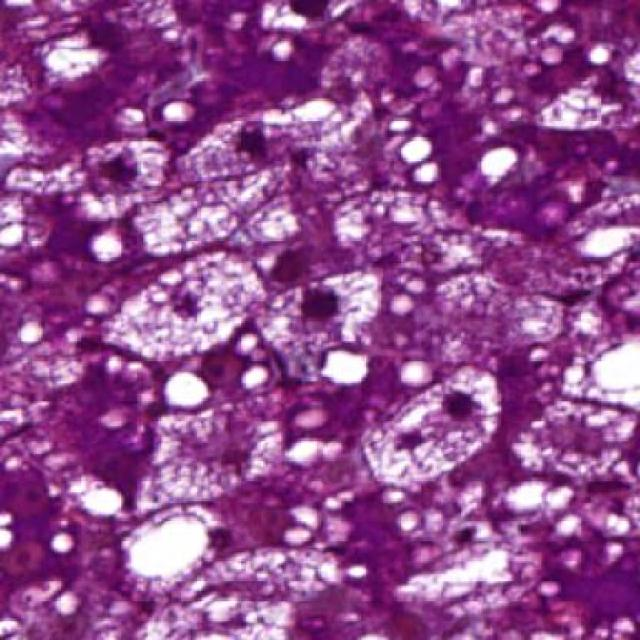ballooning: (103, 245, 271, 362), (360, 363, 508, 495), (257, 264, 388, 368)
